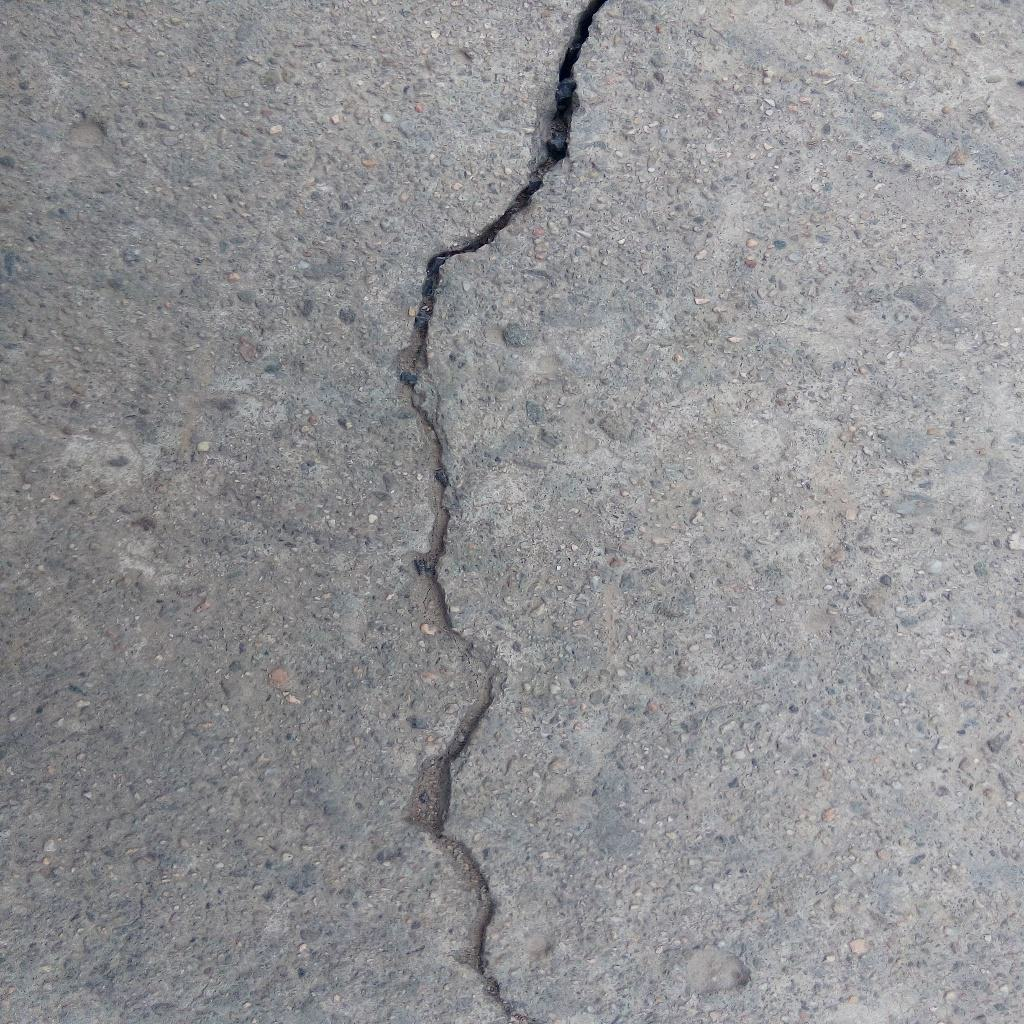Crack: (401, 1, 606, 1024)
